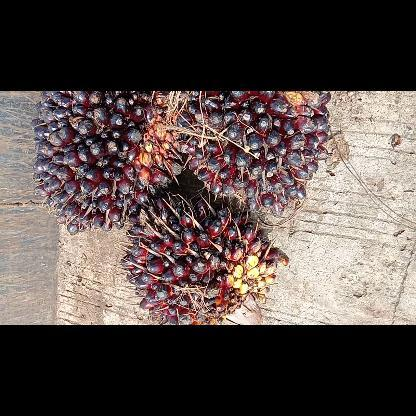TBS mentah: (114, 188, 290, 324), (30, 90, 186, 238), (177, 91, 333, 215)
